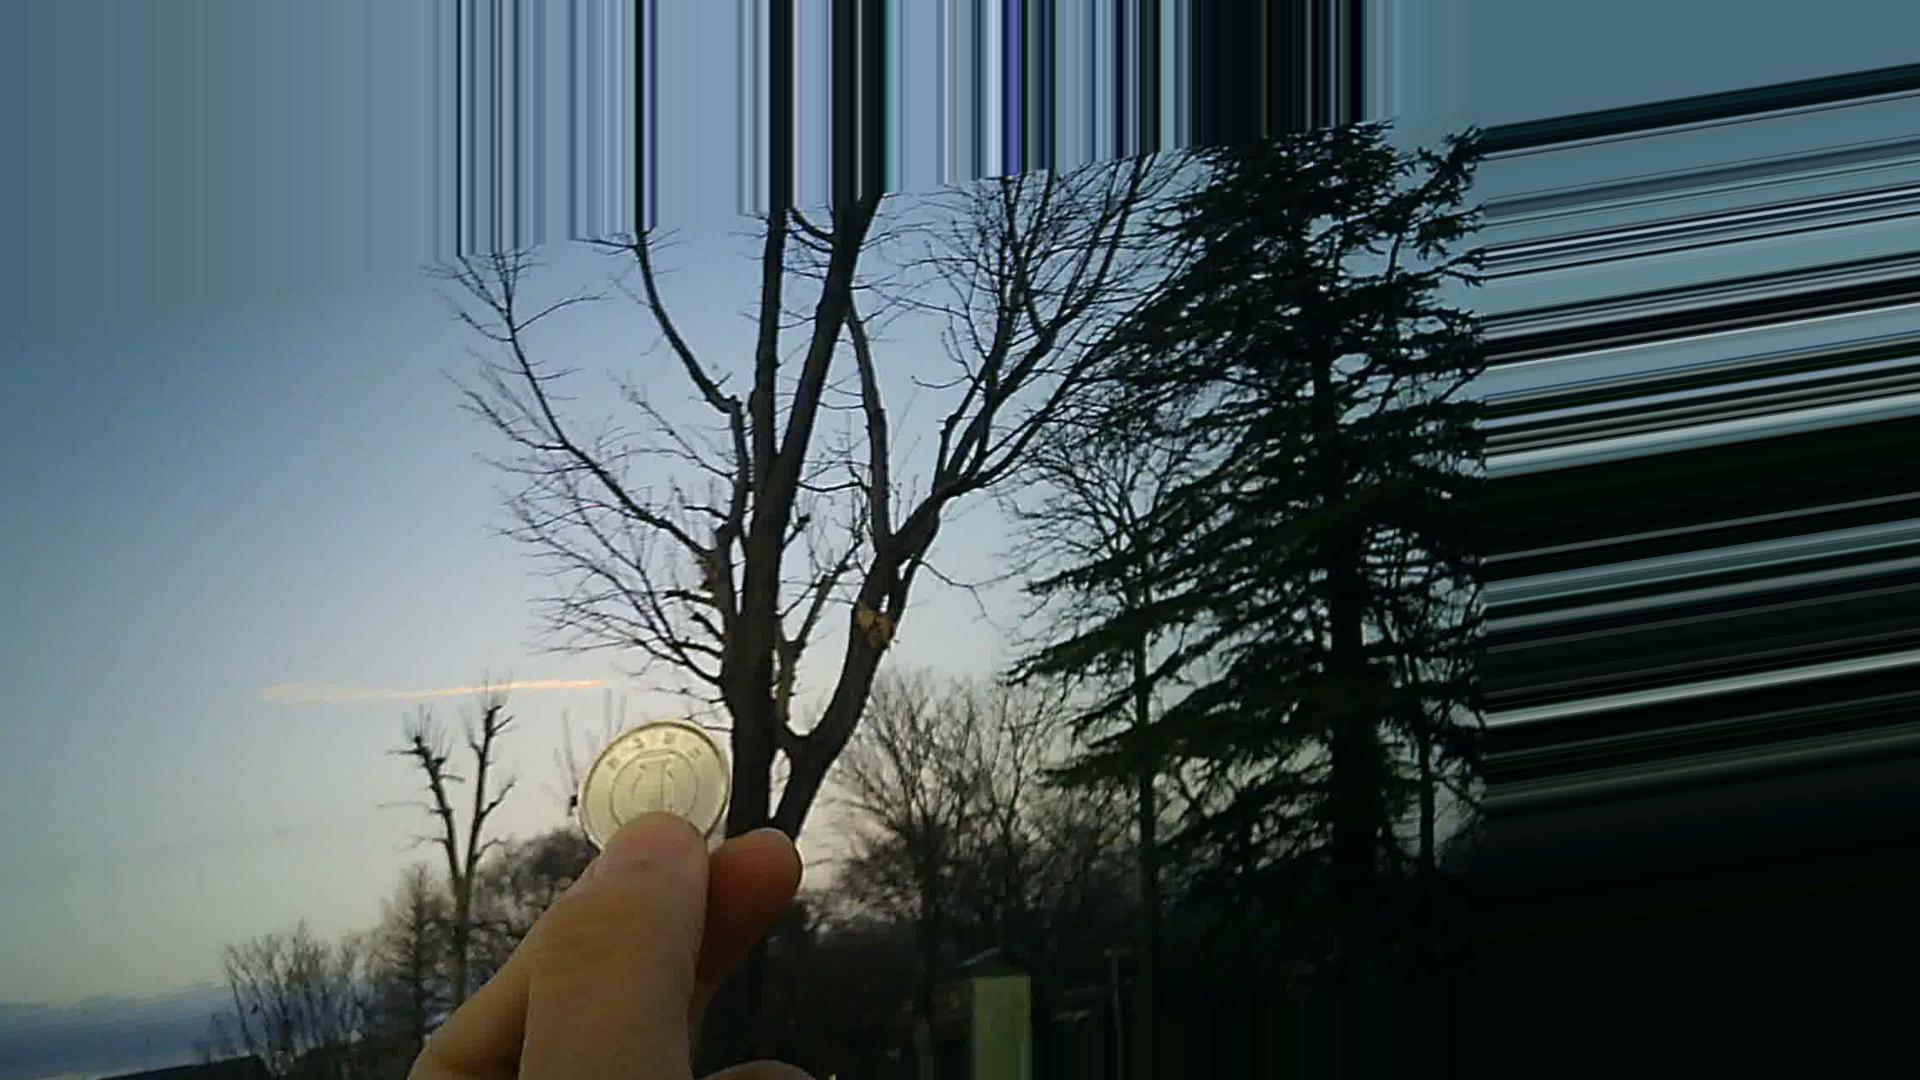1 Yen: (564, 715, 731, 866)
